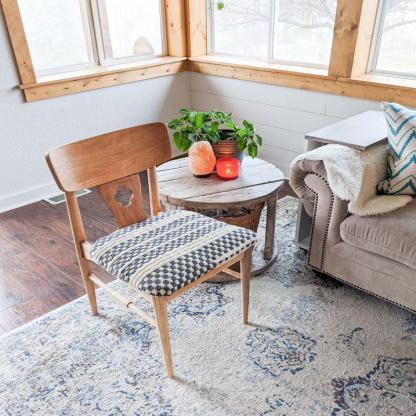chair: (44, 119, 266, 381)
sofa: (294, 102, 416, 322), (32, 52, 416, 103)
table: (144, 153, 292, 282)
